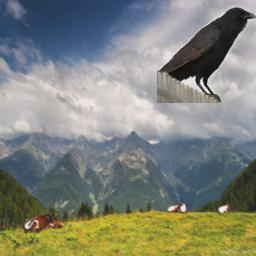Crow: (157, 5, 256, 103)
